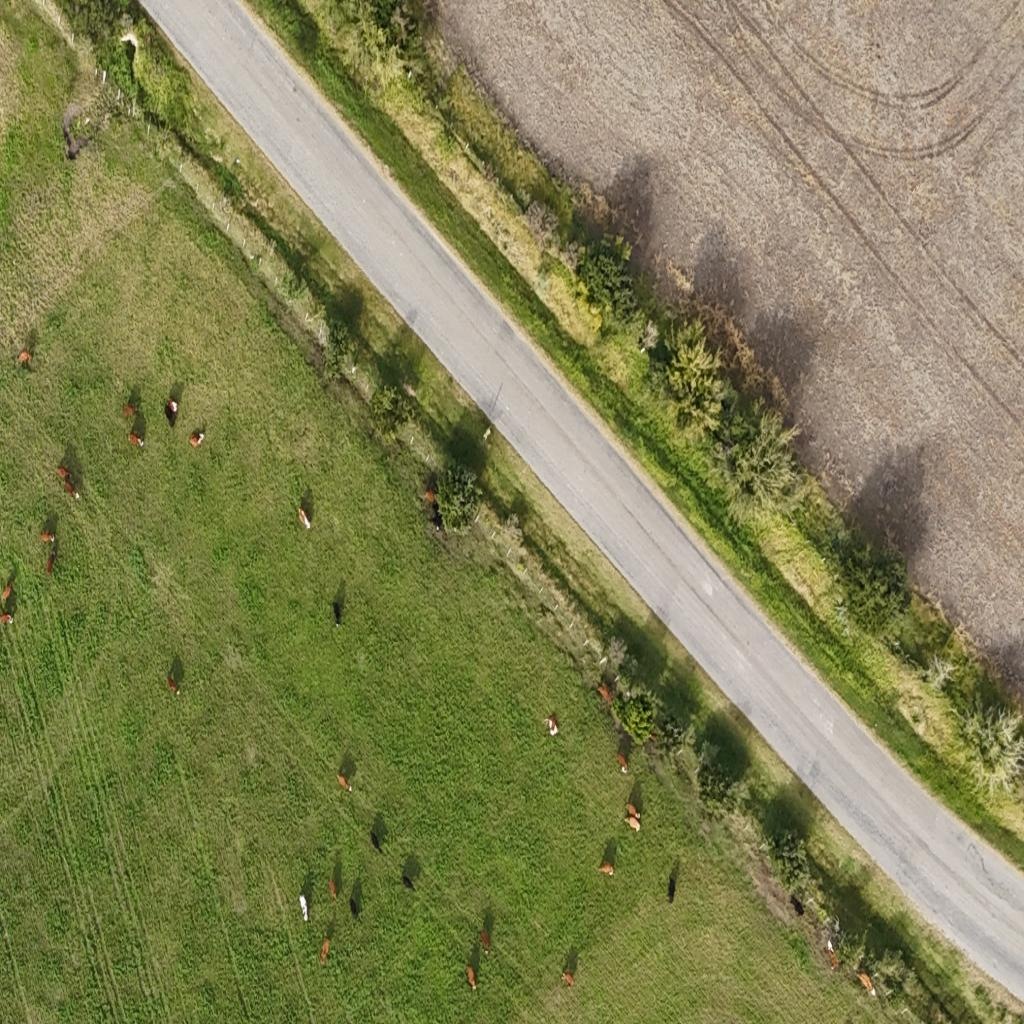cow: (856, 972, 876, 998), (825, 940, 840, 970), (60, 478, 78, 502), (597, 683, 615, 705), (544, 714, 560, 736), (349, 894, 360, 924), (790, 894, 805, 916), (466, 966, 478, 993), (430, 511, 444, 533), (370, 829, 382, 854), (128, 432, 144, 450), (188, 430, 203, 449), (1, 582, 13, 605), (627, 816, 642, 834), (18, 349, 33, 367), (299, 896, 309, 923), (298, 508, 310, 530), (480, 929, 490, 955), (47, 550, 57, 576), (320, 939, 330, 965), (626, 804, 642, 820), (0, 609, 14, 627), (332, 602, 342, 626), (167, 676, 179, 696), (616, 753, 628, 772), (56, 466, 70, 482), (561, 971, 574, 988), (337, 772, 348, 792), (328, 878, 338, 900), (599, 862, 614, 876), (123, 404, 137, 419), (168, 398, 179, 416), (41, 530, 55, 544), (402, 874, 414, 890), (668, 878, 676, 902), (423, 490, 436, 504), (166, 405, 174, 427), (648, 732, 658, 744)
